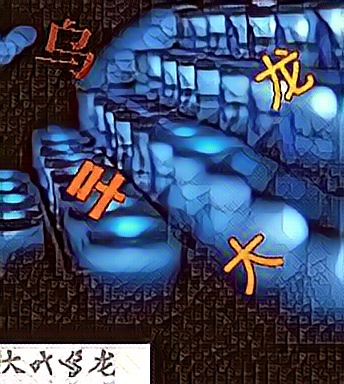B4F3: (222, 230, 285, 296)
C1FA: (253, 45, 316, 111)
CEDA: (33, 16, 96, 82)
D2B6: (65, 154, 128, 220)
